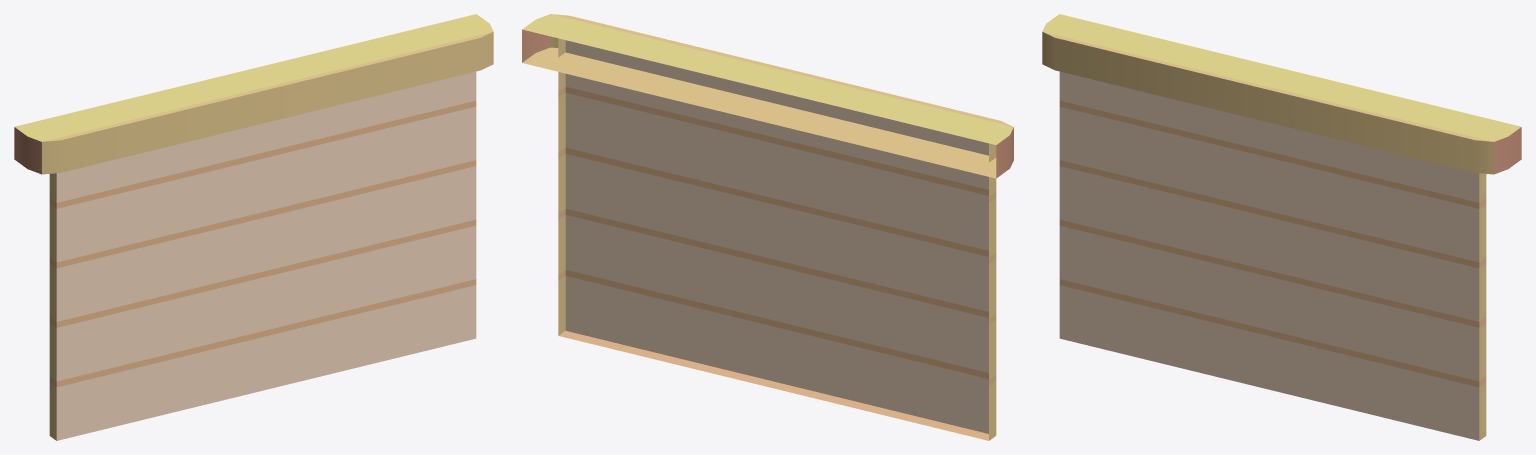
The model's file is blind.fbx.
The picture shows the model from 3 angles, left to right: view 1: azimuth 30°, elevation 25°; view 2: azimuth 150°, elevation 25°; view 3: azimuth 330°, elevation 25°; orthographic projection. The views are drawn at different scales.
Parts seen in each view (by area): view 1: blind2, blind; view 2: blind2, blind; view 3: blind2, blind.
Part boxes in pixels (x1,y1,x2,y2): blind2: [49, 71, 476, 440]; blind: [14, 14, 493, 174]; blind2: [558, 38, 996, 440]; blind: [522, 14, 1013, 178]; blind2: [1059, 71, 1486, 440]; blind: [1042, 14, 1521, 174].
Bounding box in the file's own units: 198 × 125 × 18.9.
